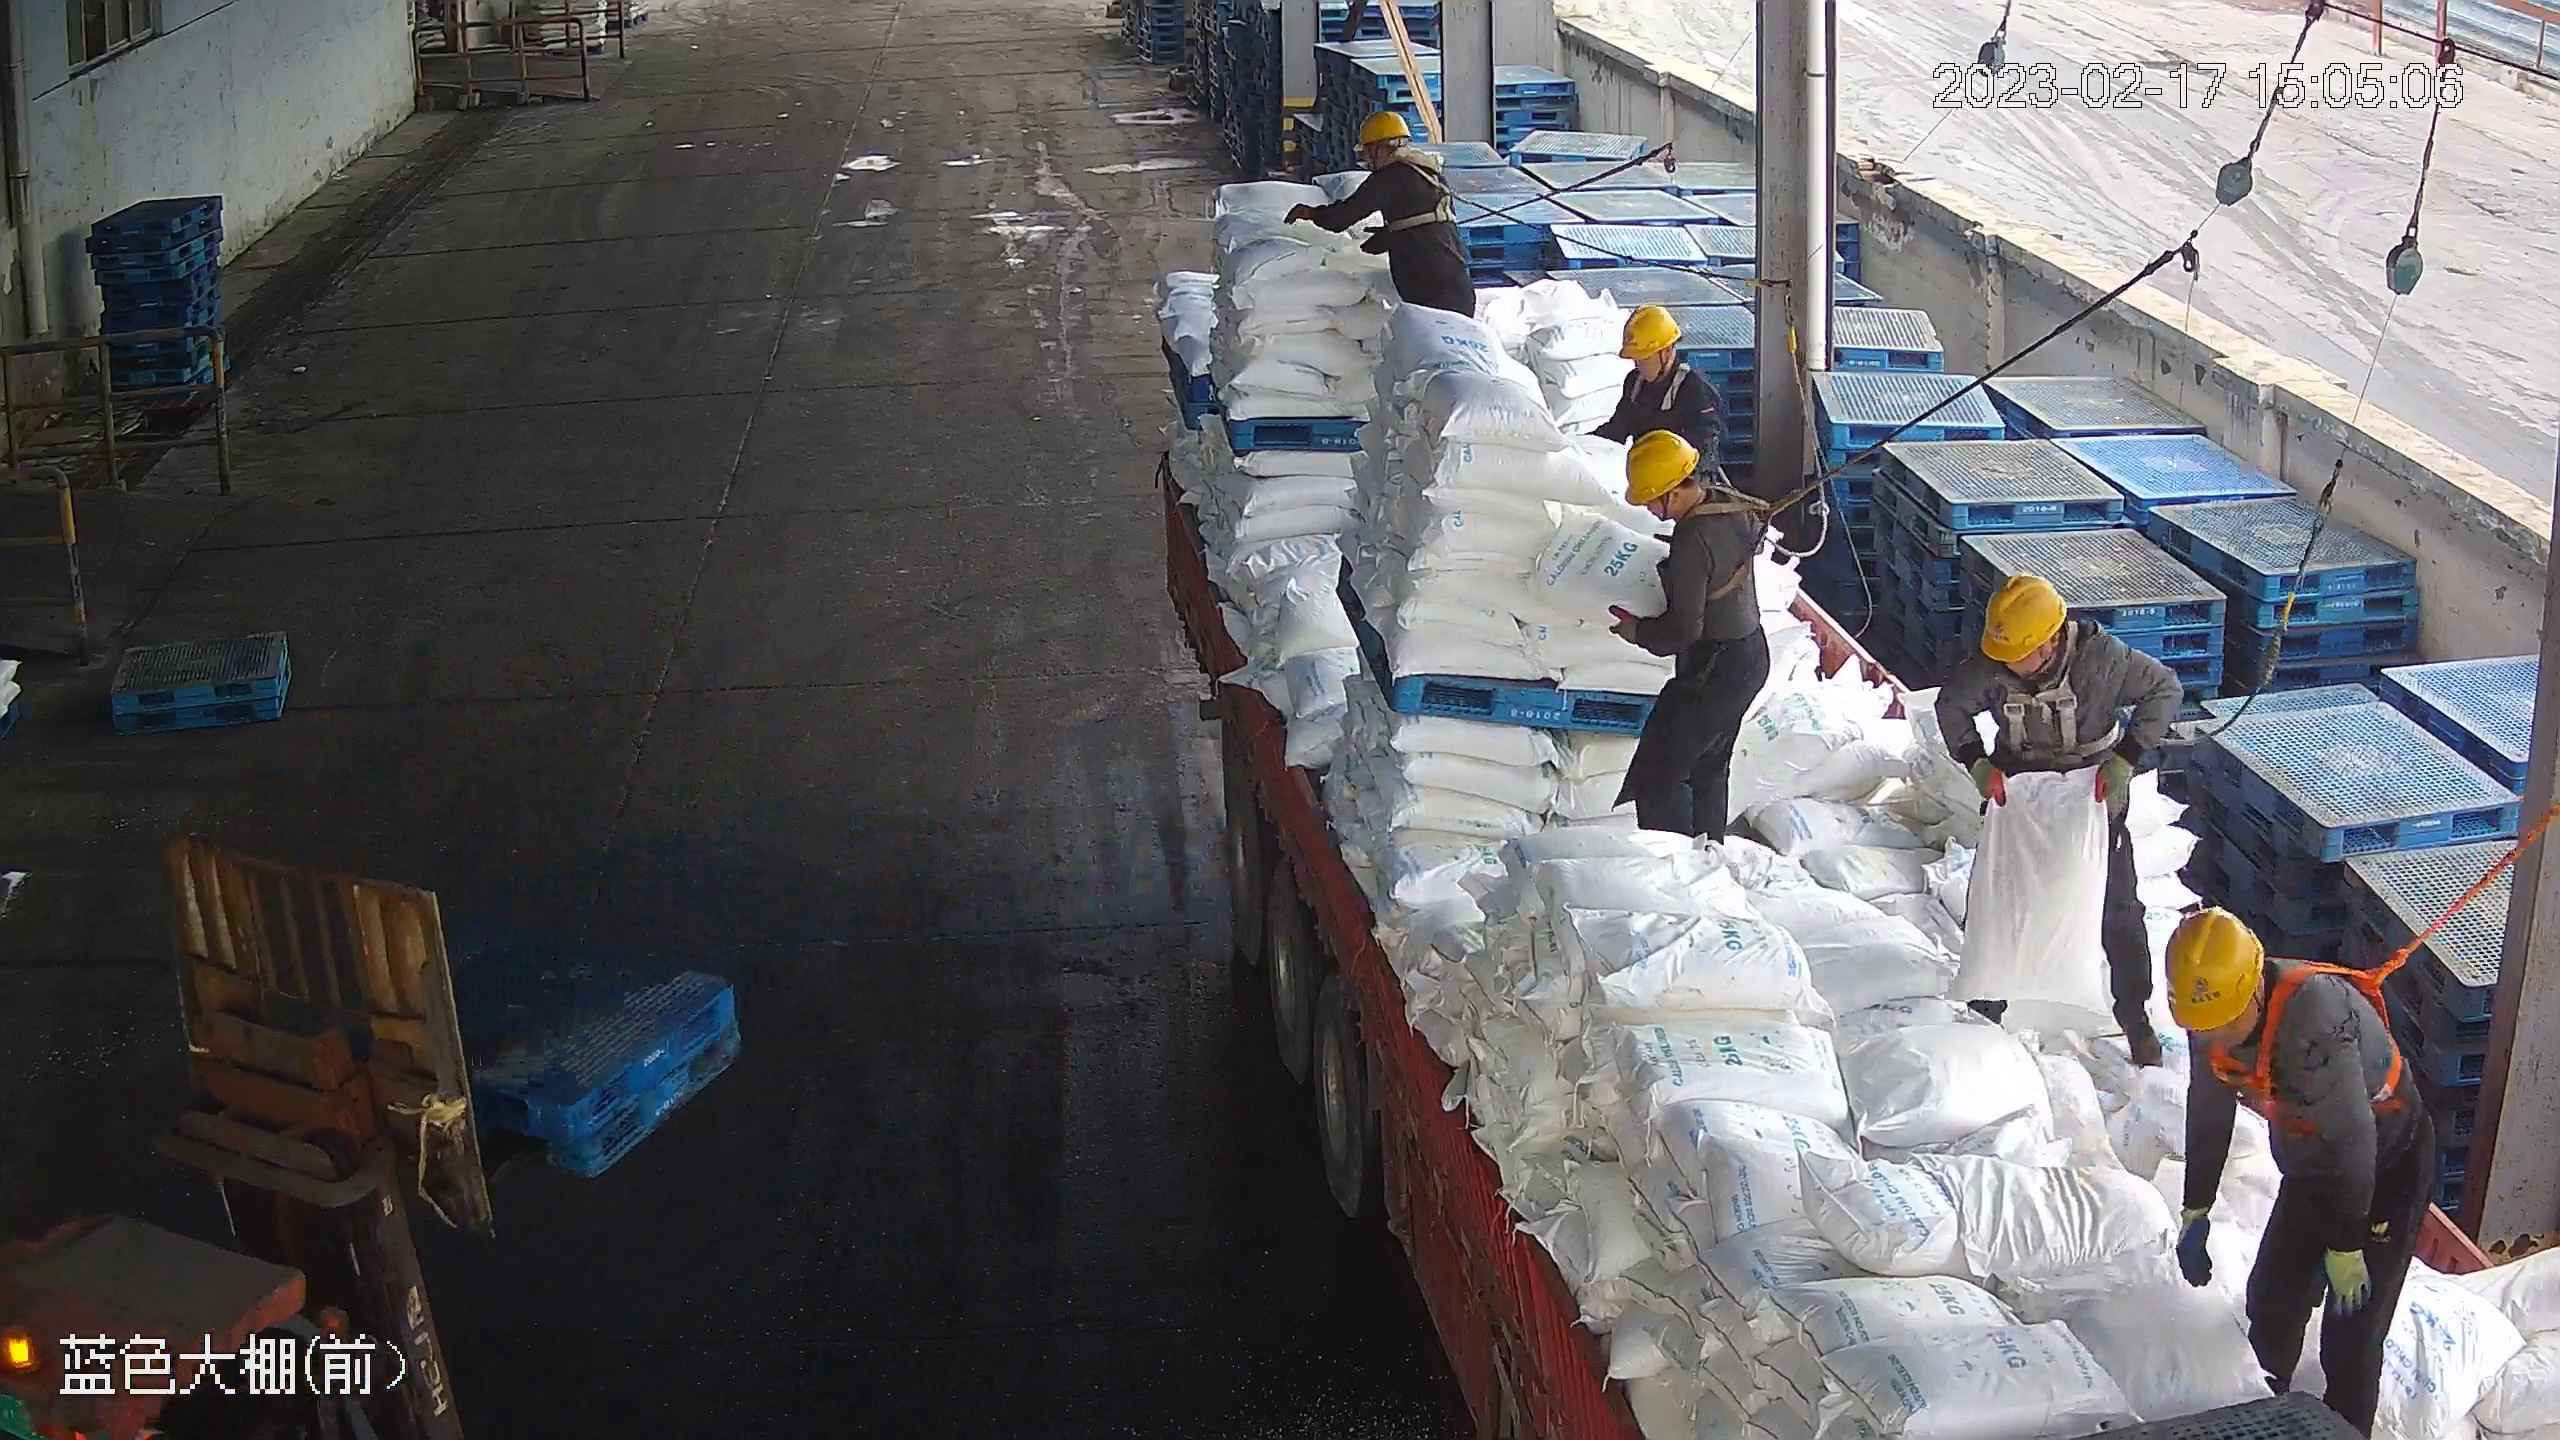belt: (2216, 948, 2423, 1134), (1994, 627, 2103, 758), (1674, 480, 1791, 600), (1383, 151, 1459, 229), (1624, 346, 1708, 412)
head: (2156, 904, 2360, 1102), (1956, 569, 2140, 730), (1618, 430, 1761, 565), (1612, 303, 1719, 414), (1348, 109, 1448, 196)
helmet: (2160, 904, 2262, 1033), (1977, 570, 2071, 662), (1622, 428, 1701, 502), (1617, 301, 1681, 359), (1353, 109, 1409, 146)
people: (2162, 905, 2428, 1430), (1941, 567, 2168, 1069), (1603, 428, 1774, 847), (1287, 107, 1476, 324)
truck: (1147, 325, 2556, 1438)
